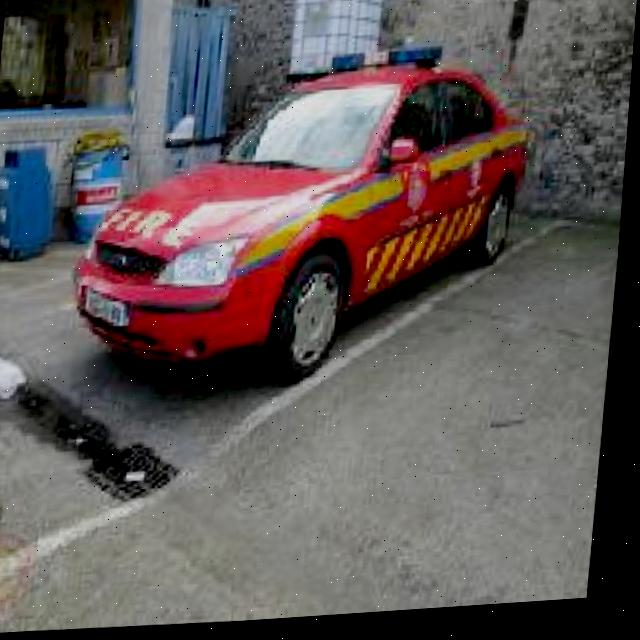emergency: (66, 34, 552, 404)
